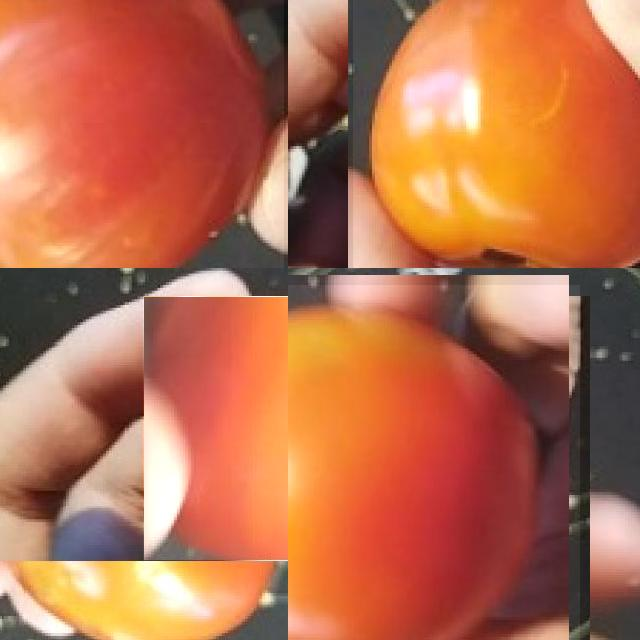Fresh Tomato: (288, 285, 580, 640), (352, 0, 640, 268), (143, 296, 288, 560), (7, 561, 278, 640)
Rotten Tomato: (0, 0, 284, 268)
